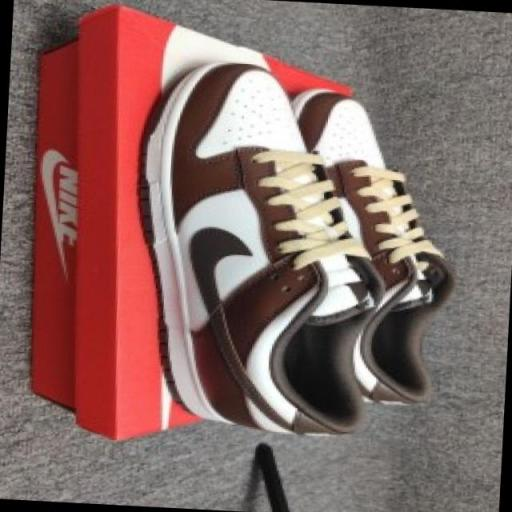Nike: (178, 226, 266, 391)
